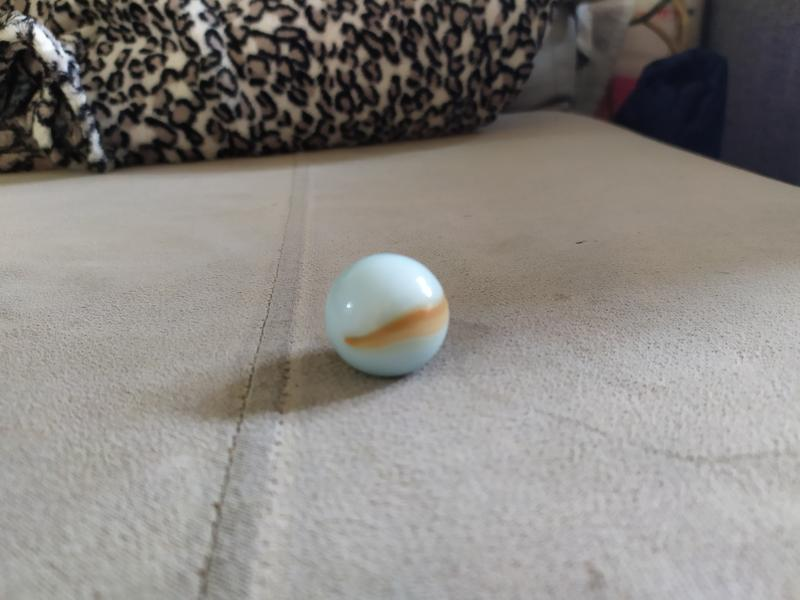Warning: (322, 249, 453, 381)
